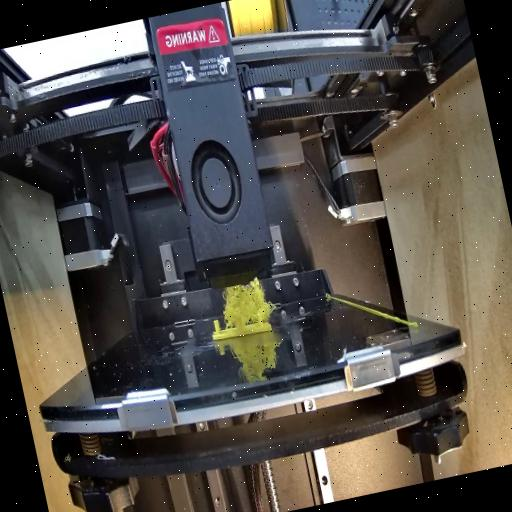spaghetti: (214, 270, 284, 330)
